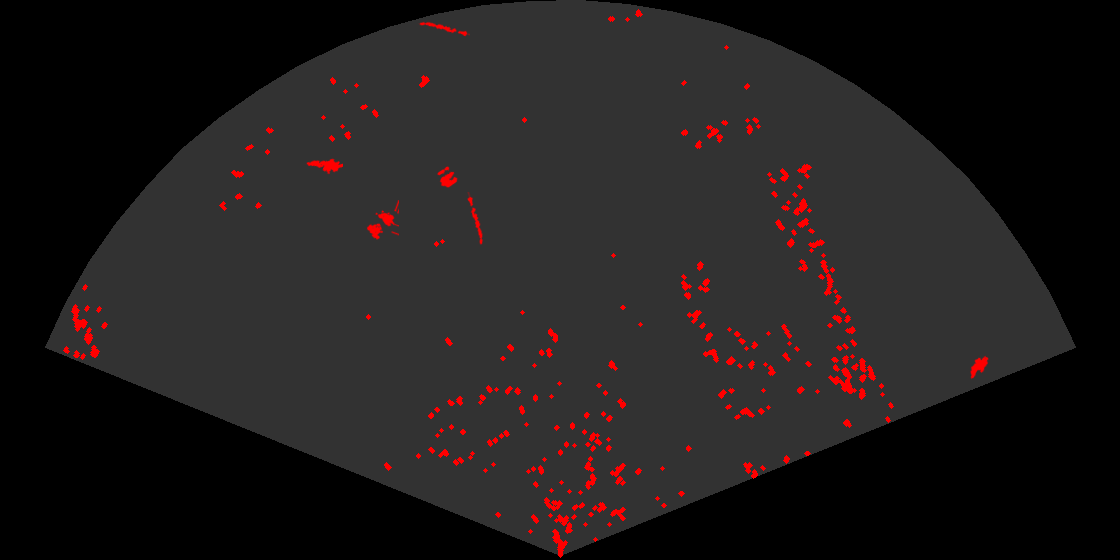AUV: (969, 354, 990, 381)
ball: (436, 165, 459, 189)
cage: (365, 200, 399, 241)
chain: (466, 192, 485, 245), (417, 20, 470, 38)
frogman: (304, 157, 343, 176)
